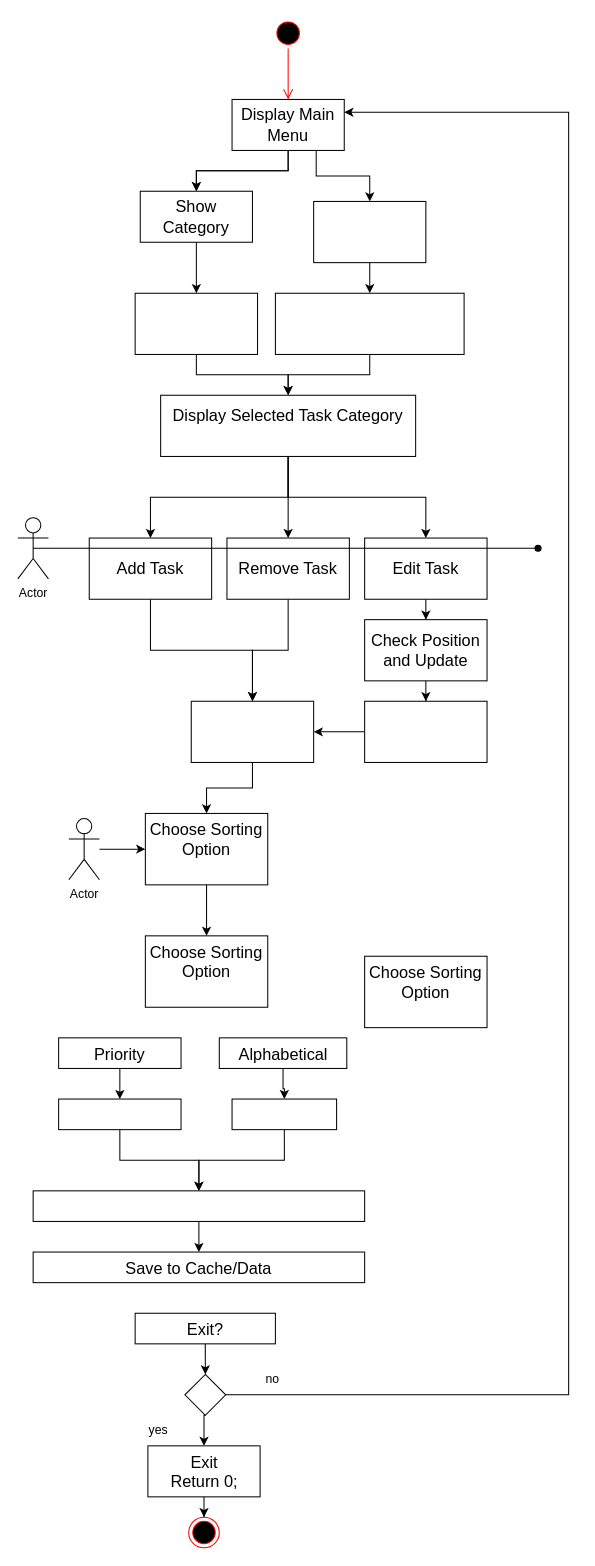
Image size: 595x1566. Some labels were removed from this diagram. The shapes that lost their labels are listed below. From the top down, each one's centre as x and y in pixels, then its label:
At (369,231): "Show Eisenhower Matrix".
At (196,323): "Fetch from Cache/Data".
At (369,323): "Fetch All catagoris + eisenhower display".
At (252,731): "Determine Quadrant".
At (425,731): "Check Date".
At (119,1114): "High-Low".
At (284,1114): "A-Z".
At (198,1205): "Display Sorted/Updated Tasks".
